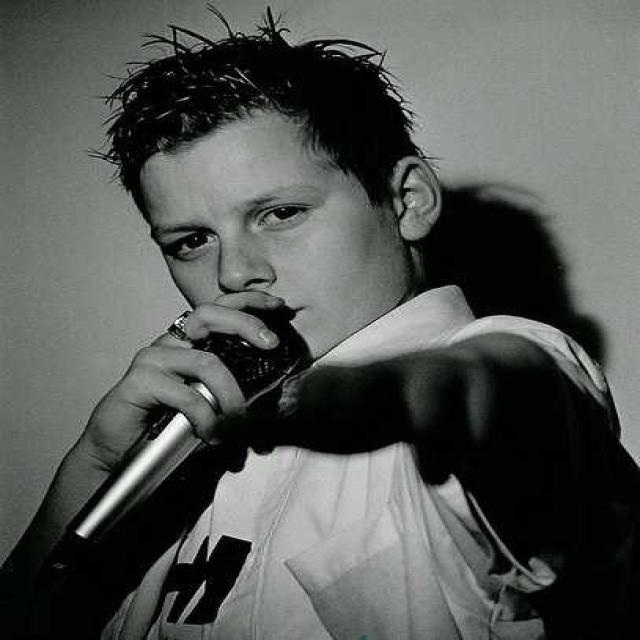microphone: (55, 304, 307, 561)
